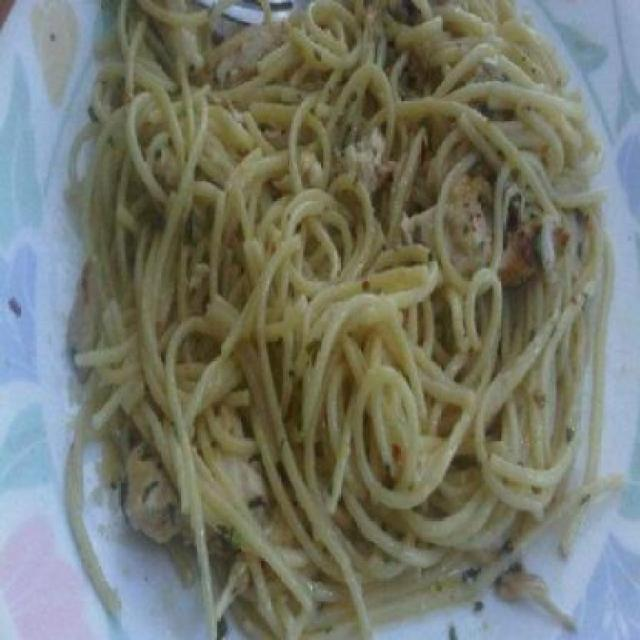Oil pasta: (55, 10, 603, 581)
